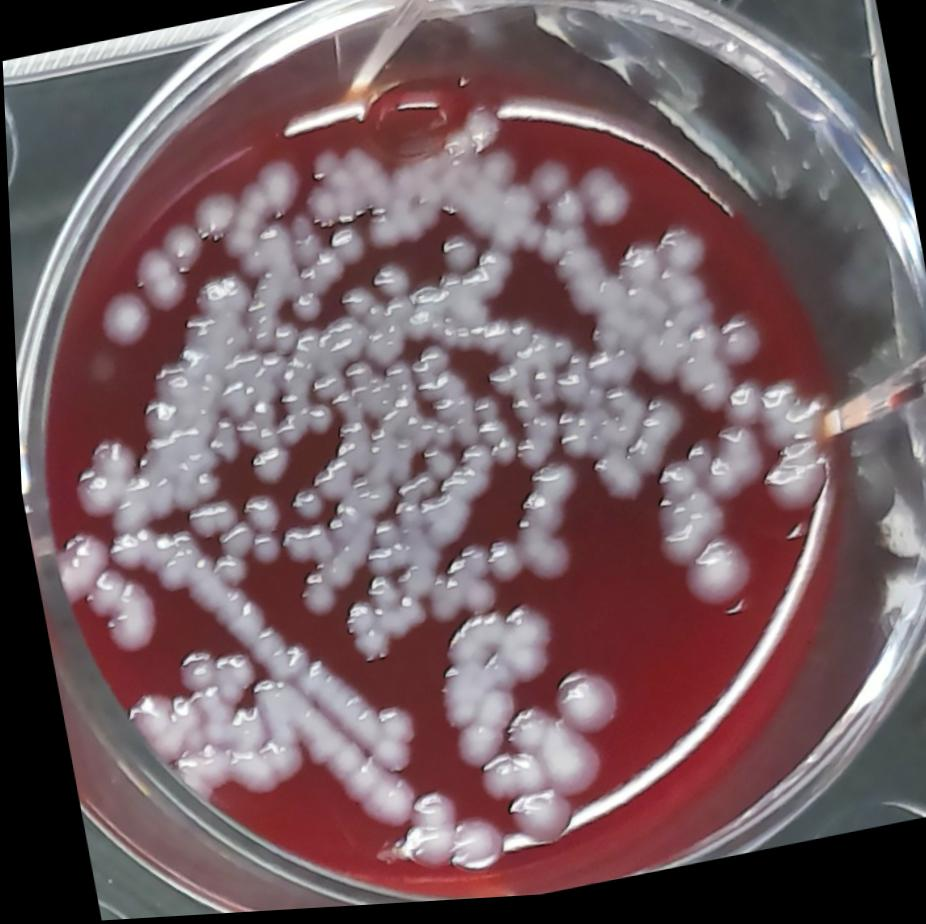smarcescens: (183, 534, 418, 813), (233, 662, 418, 867), (74, 554, 168, 668), (668, 530, 760, 628), (57, 432, 141, 524), (91, 289, 156, 360)
